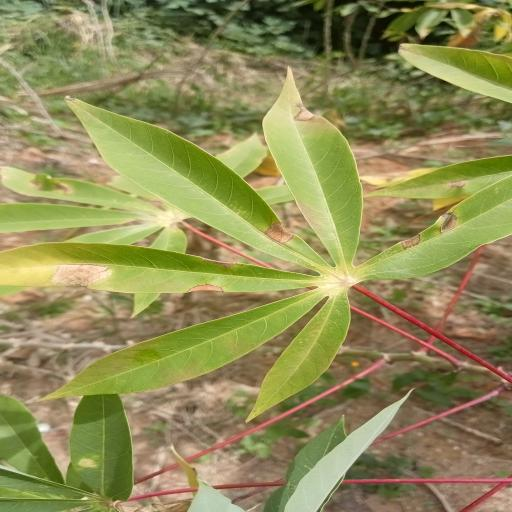Cassava_Root_Rot: (0, 73, 512, 414)
